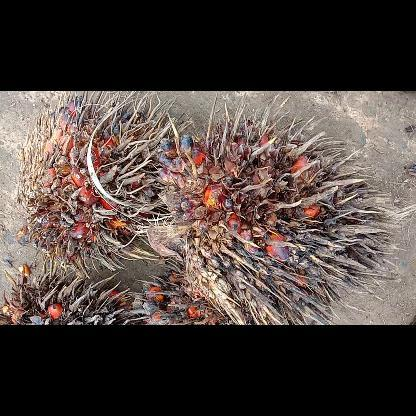Terlalu masak: (142, 107, 404, 324), (13, 90, 195, 276)
